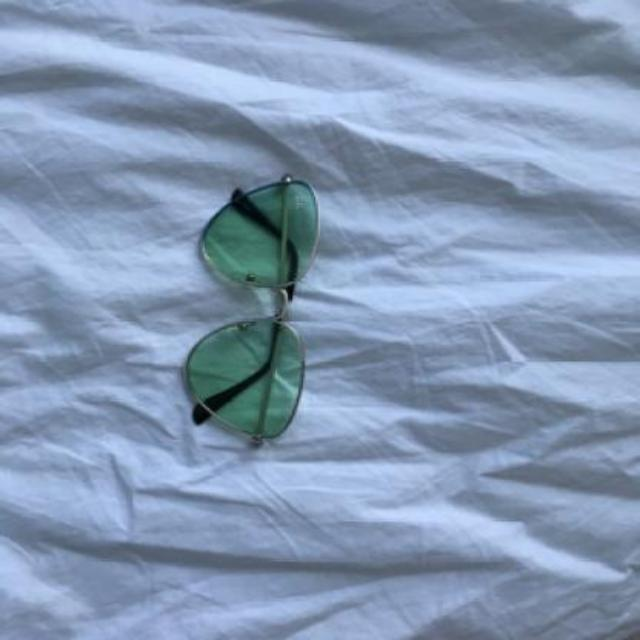glasses: (182, 174, 320, 450)
